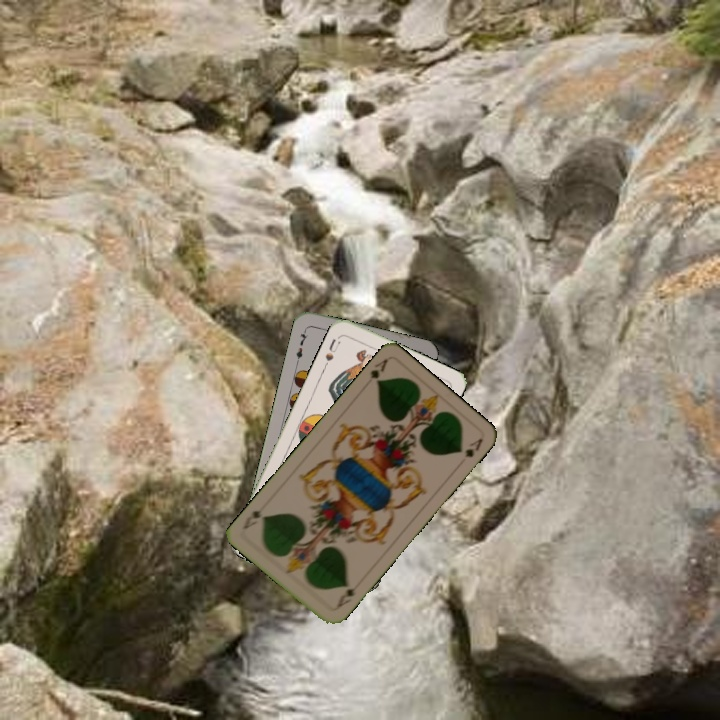E7: (292, 325, 310, 365)
GA: (331, 579, 362, 613), (366, 355, 390, 387)
SU: (320, 335, 343, 370)
